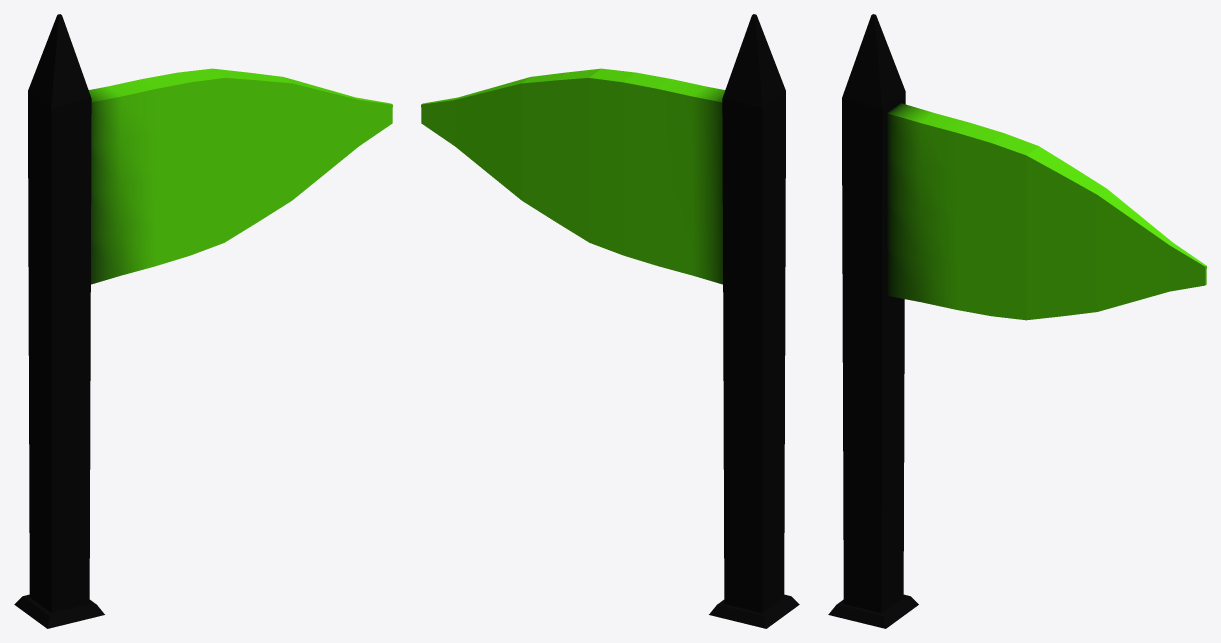
Rendered from GreenFlag.glb.
The picture shows the model from 3 angles, left to right: view 1: azimuth 30°, elevation 25°; view 2: azimuth 150°, elevation 25°; view 3: azimuth 330°, elevation 25°; orthographic projection.
Visible parts, largest first — view 1: Flag; view 2: Flag; view 3: Flag.
Boxes of the visible parts, x1=… form: Flag: x1=14, y1=14, x2=392, y2=628; Flag: x1=421, y1=14, x2=799, y2=628; Flag: x1=828, y1=14, x2=1206, y2=628.
Bounding box in the file's own units: 2.48 × 3.91 × 0.397.
